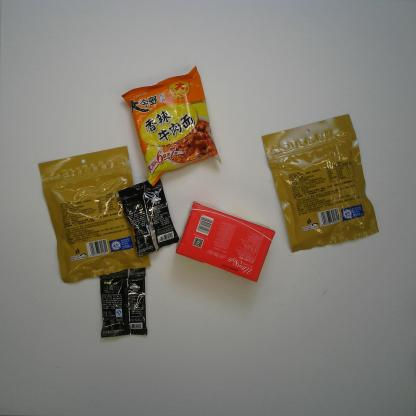Dried Fruit: (260, 113, 380, 254), (38, 145, 151, 284)
Instant Drink: (117, 177, 180, 258), (99, 266, 148, 338)
Instant Noodles: (121, 64, 222, 188)
Tissue: (175, 199, 276, 283)
